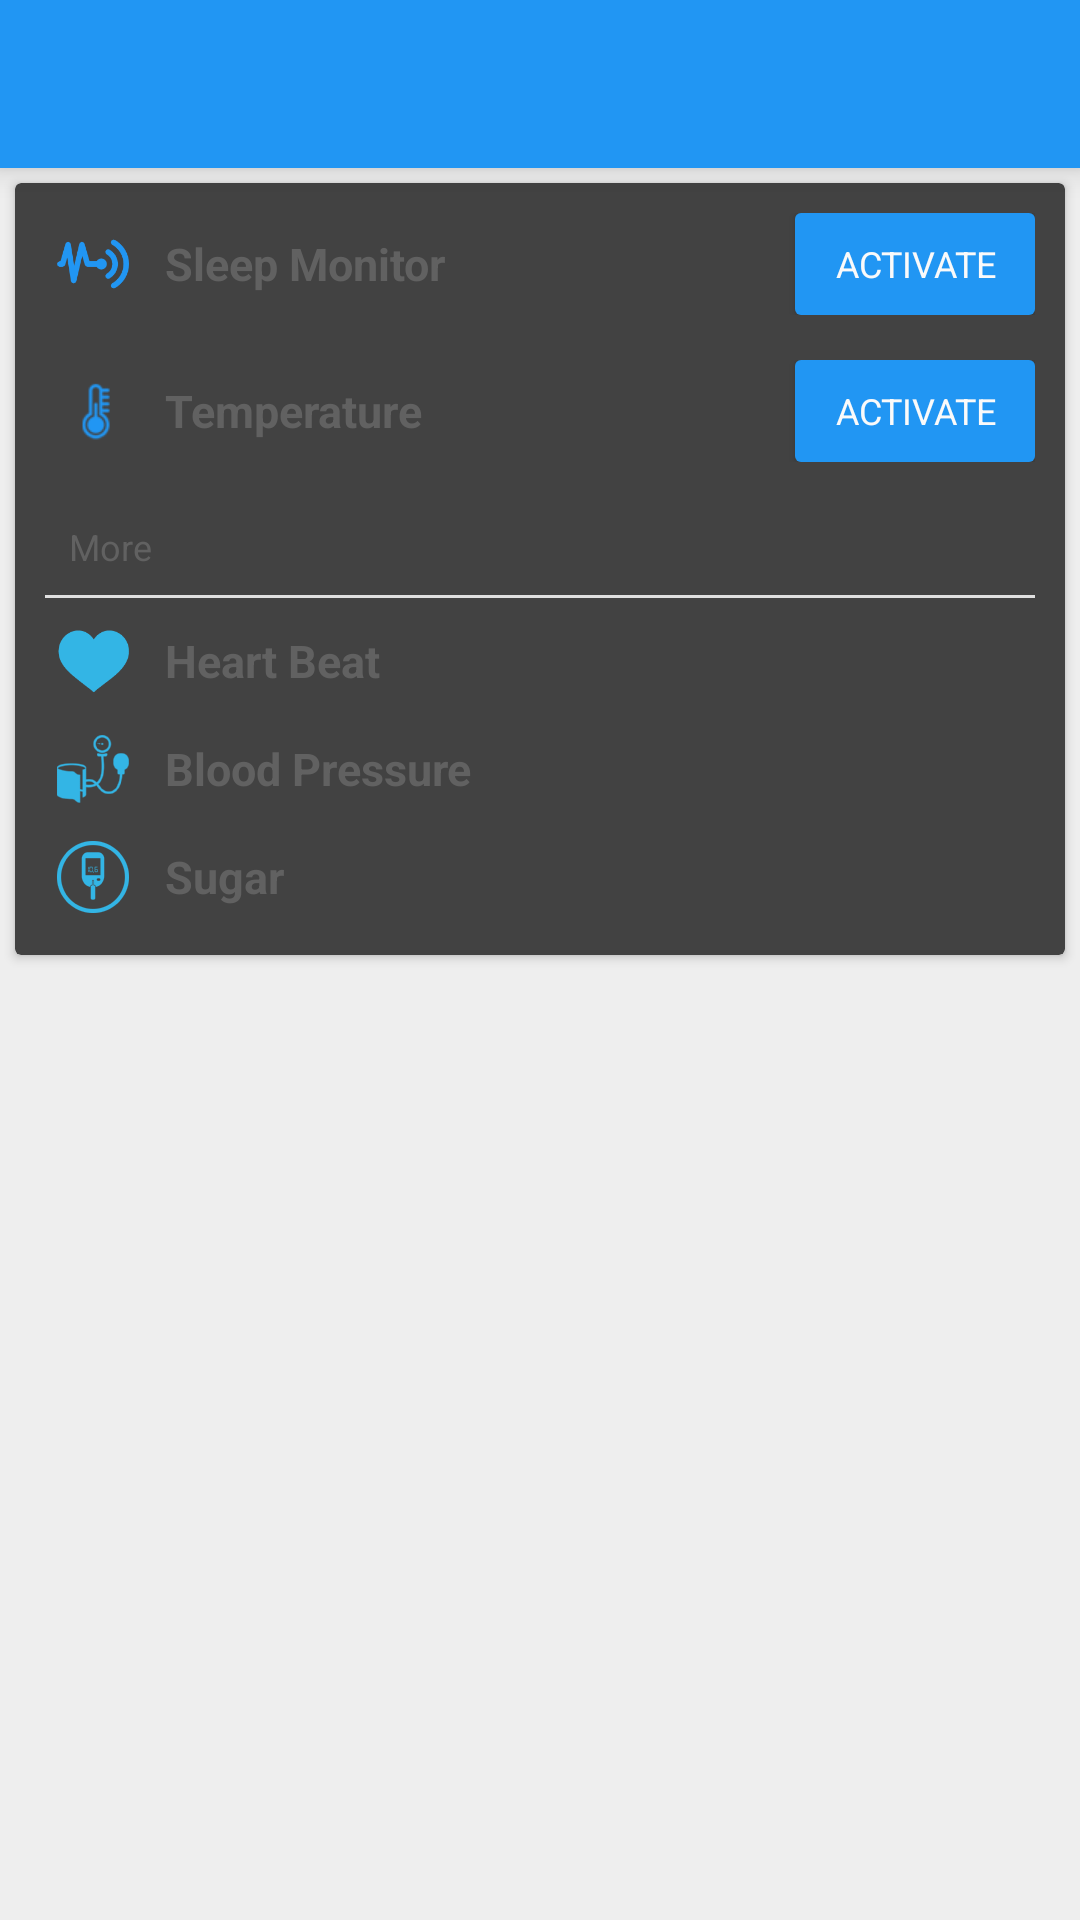

Screen size 1080px x 1920px. Icon name, then its center in pixels as [x,y]:
electrical sensor: [93,264]
heart rate: [93,661]
